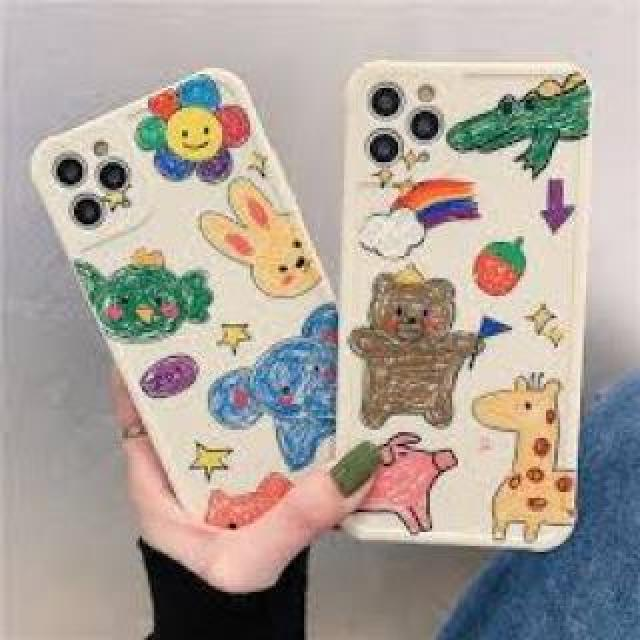smart phone: (322, 32, 625, 528), (60, 41, 340, 542)
